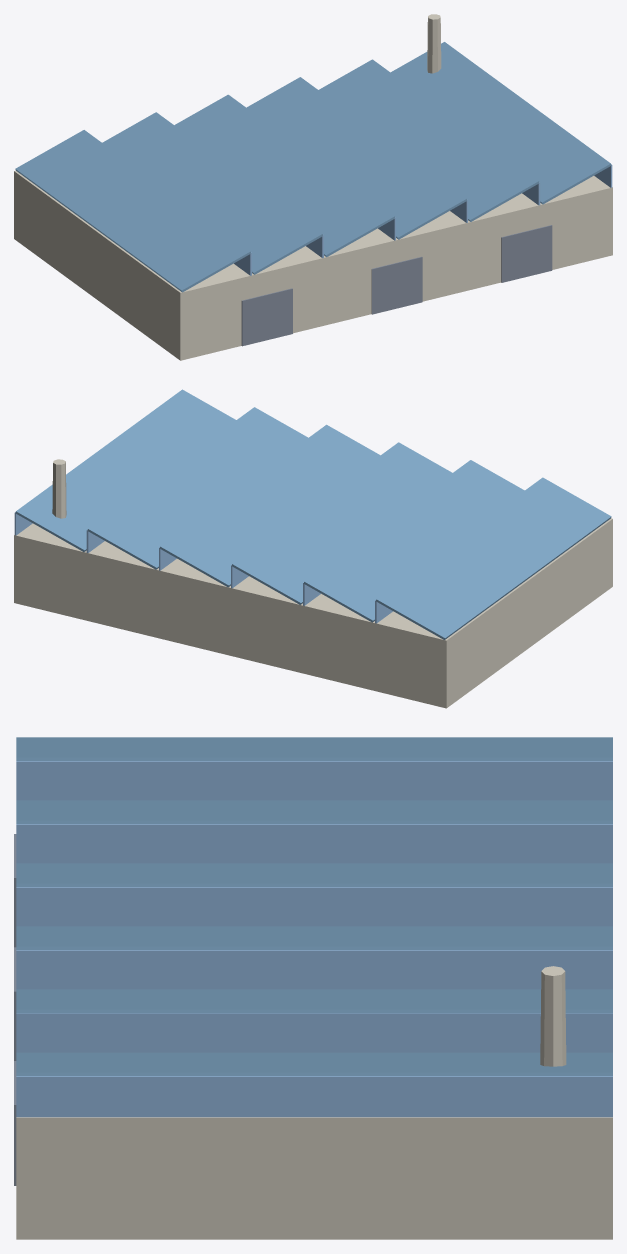
Rendered from factory_shed.glb.
The picture shows the model from 3 angles, top to bottom: view 1: azimuth 30°, elevation 25°; view 2: azimuth 150°, elevation 25°; view 3: azimuth 270°, elevation 25°; orthographic projection. The views are drawn at different scales.
Parts seen in each view (by area): view 1: factory; view 2: factory; view 3: factory.
Part boxes in pixels (x1=…): factory: x1=14, y1=14, x2=612, y2=360; factory: x1=14, y1=389, x2=612, y2=708; factory: x1=14, y1=737, x2=612, y2=1239.
Bounding box in the file's own units: 60 × 18 × 40.15.
